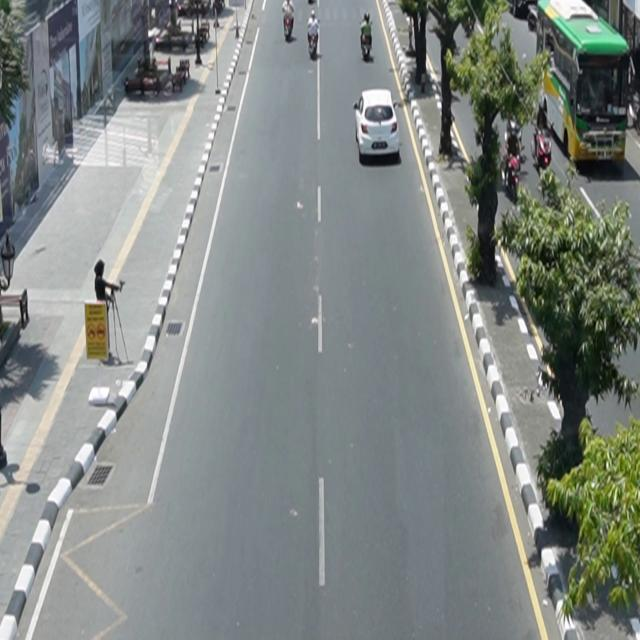bus: (535, 1, 631, 169)
car: (354, 89, 401, 162)
